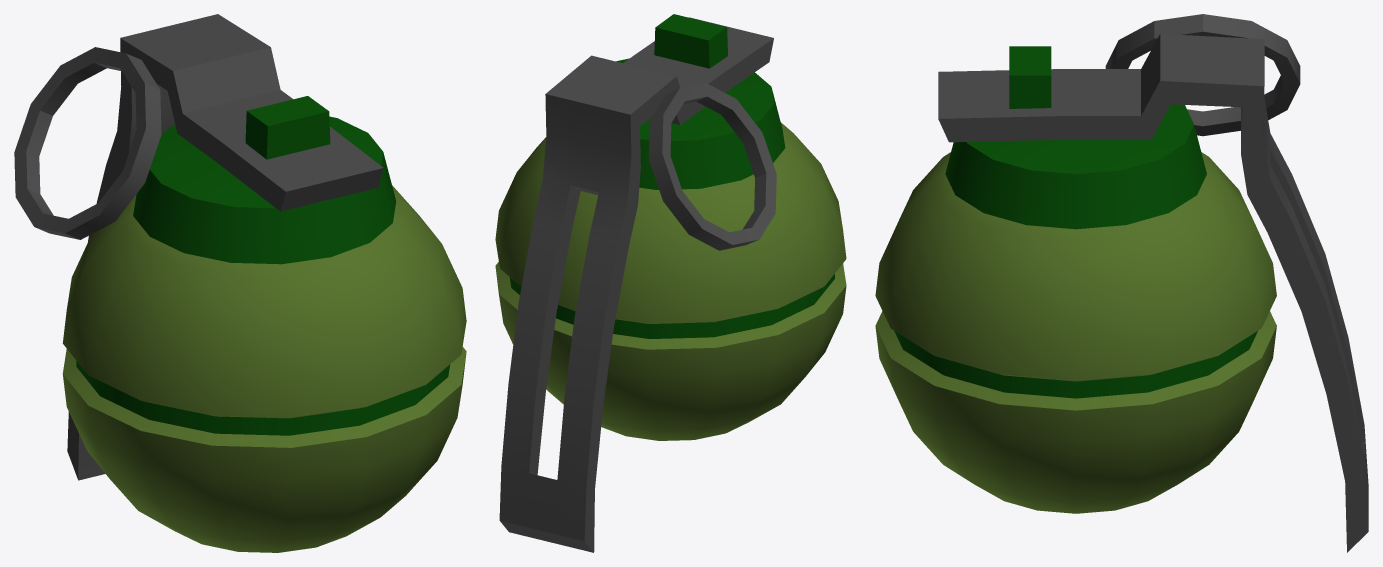
Rendered from SM_Grenade.fbx.
3 views of the same model, side by side, from view 1: azimuth 30°, elevation 25°; view 2: azimuth 150°, elevation 25°; view 3: azimuth 270°, elevation 25° (orthographic). The views are drawn at different scales.
Visible parts, largest first — view 1: SM_Grenade; view 2: SM_Grenade; view 3: SM_Grenade.
Part boxes in pixels (x1,y1,x2,y2): SM_Grenade: (14,14,466,552); SM_Grenade: (495,14,846,552); SM_Grenade: (875,14,1368,552).
Size of the model in its own units: 0.459 by 0.6051 by 0.5637.
